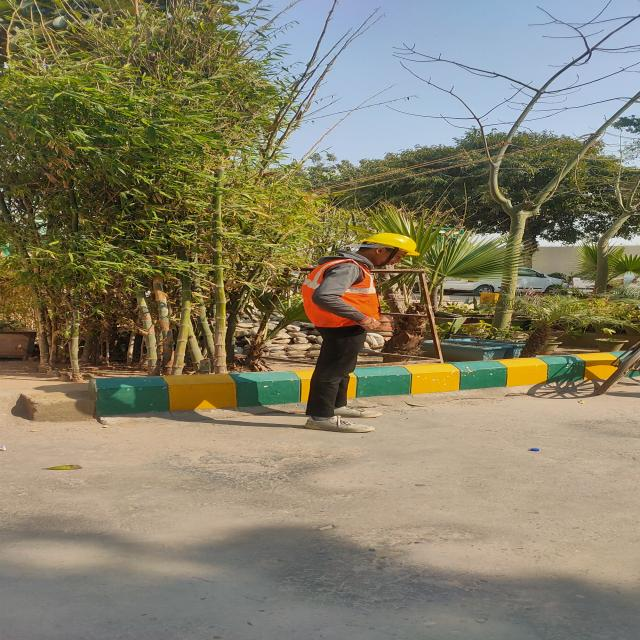safe: (305, 233, 421, 432)
